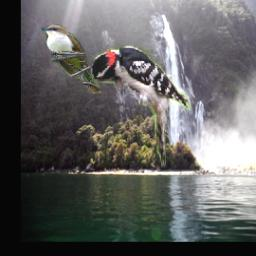Cuckoo: (42, 24, 102, 94)
Woodpecker: (84, 44, 191, 168)
